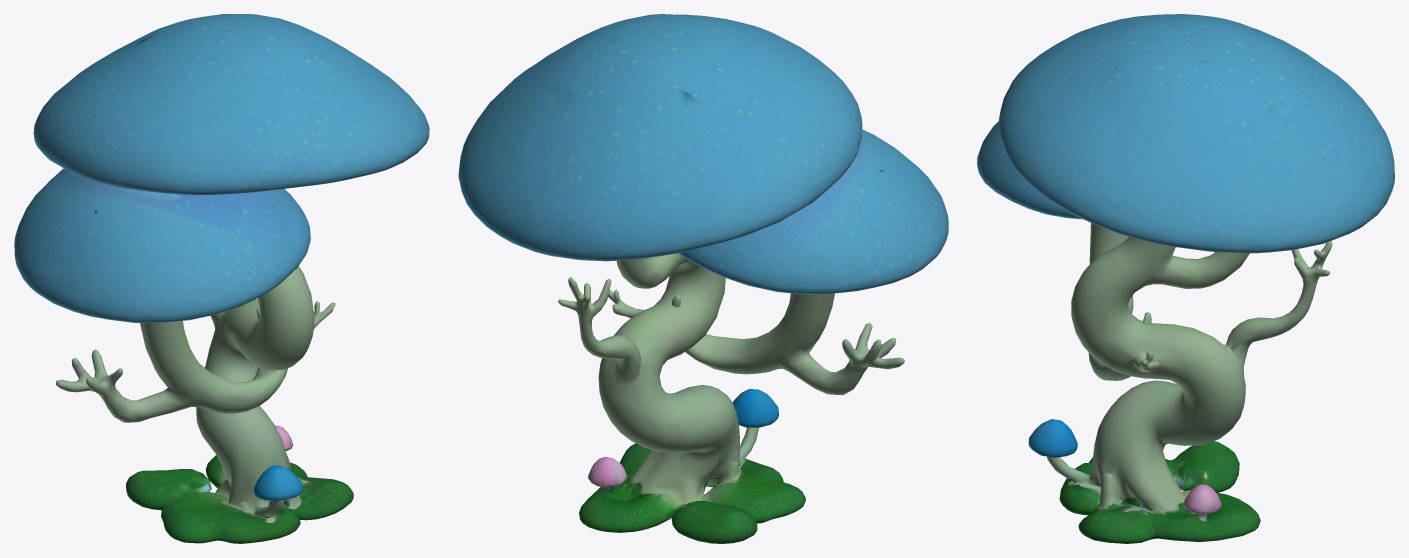
File: albero-funghiDoppi.fbx
The picture shows the model from 3 angles, left to right: view 1: azimuth 30°, elevation 25°; view 2: azimuth 150°, elevation 25°; view 3: azimuth 270°, elevation 25°; orthographic projection. The views are drawn at different scales.
Parts seen in each view (by area): view 1: fungoDoppio; view 2: fungoDoppio; view 3: fungoDoppio.
Boxes of the visible parts, bbox=[...] form: fungoDoppio: bbox=[14, 14, 429, 543]; fungoDoppio: bbox=[458, 14, 948, 543]; fungoDoppio: bbox=[977, 14, 1394, 543].
Bounding box in the file's own units: 2637 × 2953 × 2342.
1 material, 1 textured.
